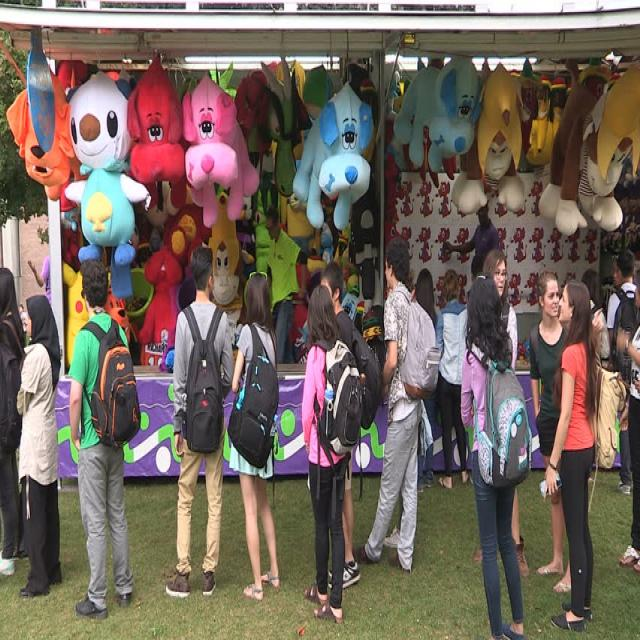body: (348, 227, 444, 577), (540, 275, 622, 636), (457, 268, 533, 639), (162, 240, 237, 603), (69, 256, 135, 623), (300, 280, 365, 627), (319, 257, 383, 595), (224, 264, 282, 607), (481, 245, 532, 580), (15, 288, 64, 600), (528, 271, 574, 596), (434, 265, 476, 491), (605, 248, 640, 497), (0, 265, 27, 579), (615, 260, 639, 579), (264, 202, 310, 366), (414, 265, 439, 491), (442, 194, 501, 274), (14, 244, 55, 353), (580, 267, 612, 372), (602, 246, 624, 358)
